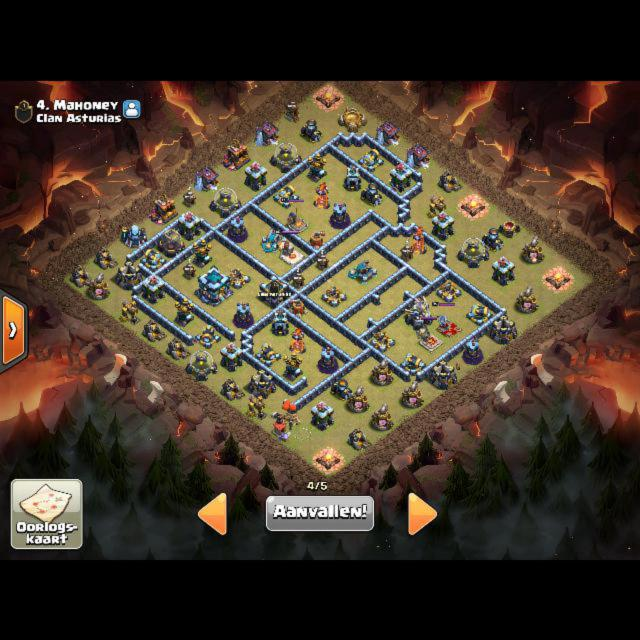AD: (282, 351, 302, 381), (307, 152, 327, 182), (192, 238, 212, 268), (174, 296, 194, 326)
AirSweeper: (289, 298, 308, 318), (307, 230, 325, 250)
BombTower: (272, 308, 289, 335), (344, 163, 361, 190)
Canon: (194, 324, 220, 348), (273, 184, 299, 208), (255, 343, 282, 366), (400, 352, 426, 375), (357, 148, 383, 171), (140, 248, 166, 270), (466, 303, 492, 325)
ClanCastle: (260, 273, 289, 307)
Eagle: (404, 295, 432, 330)
Inferno: (410, 227, 426, 254), (289, 327, 305, 353), (314, 182, 330, 208)
KingPad: (420, 333, 443, 350)
Mortar: (360, 182, 383, 205), (300, 118, 322, 142), (481, 227, 503, 251), (330, 378, 352, 400)
QueenPad: (437, 319, 461, 337)
RcPad: (289, 217, 308, 232)
Scattershot: (348, 259, 377, 283), (261, 227, 286, 252)
TH13: (197, 265, 230, 306)
WardenPad: (282, 247, 303, 264)
WizzTower: (330, 202, 350, 229), (234, 301, 253, 328), (464, 338, 483, 365), (319, 346, 338, 373), (228, 215, 247, 241)
Xbow: (369, 329, 395, 352), (435, 279, 461, 302), (321, 284, 347, 307), (224, 268, 250, 289)
